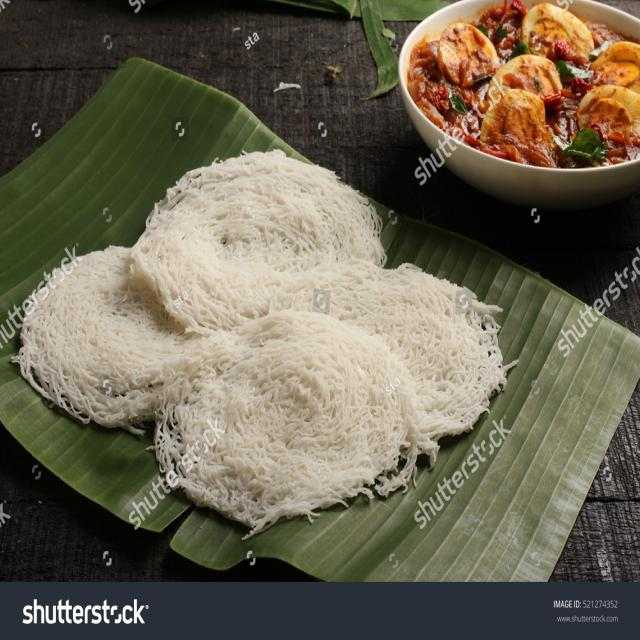EGG: (435, 1, 640, 162)
IDIYAPPAM: (16, 148, 510, 529)
